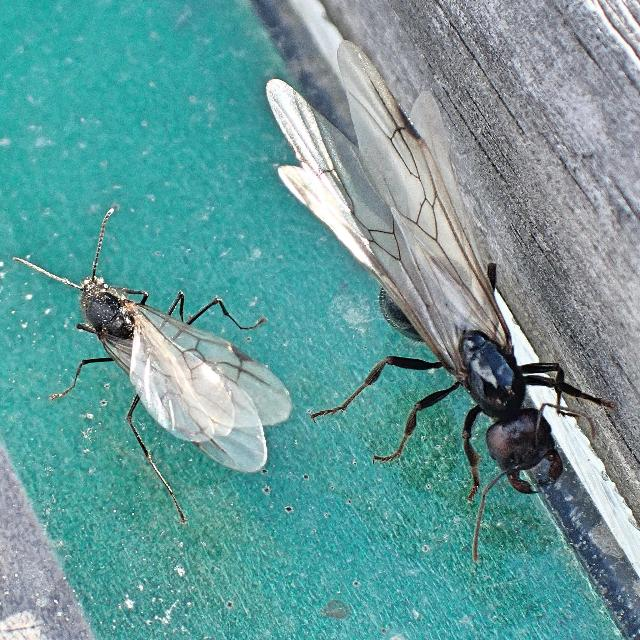Messor: (318, 212, 576, 508), (19, 232, 305, 468)
